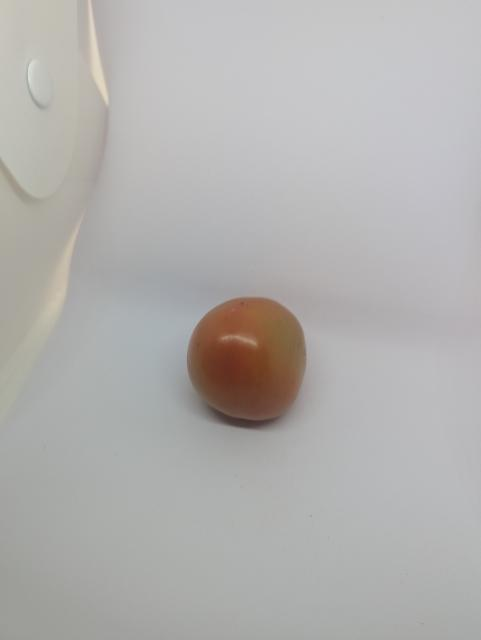turning: (182, 286, 311, 428)
